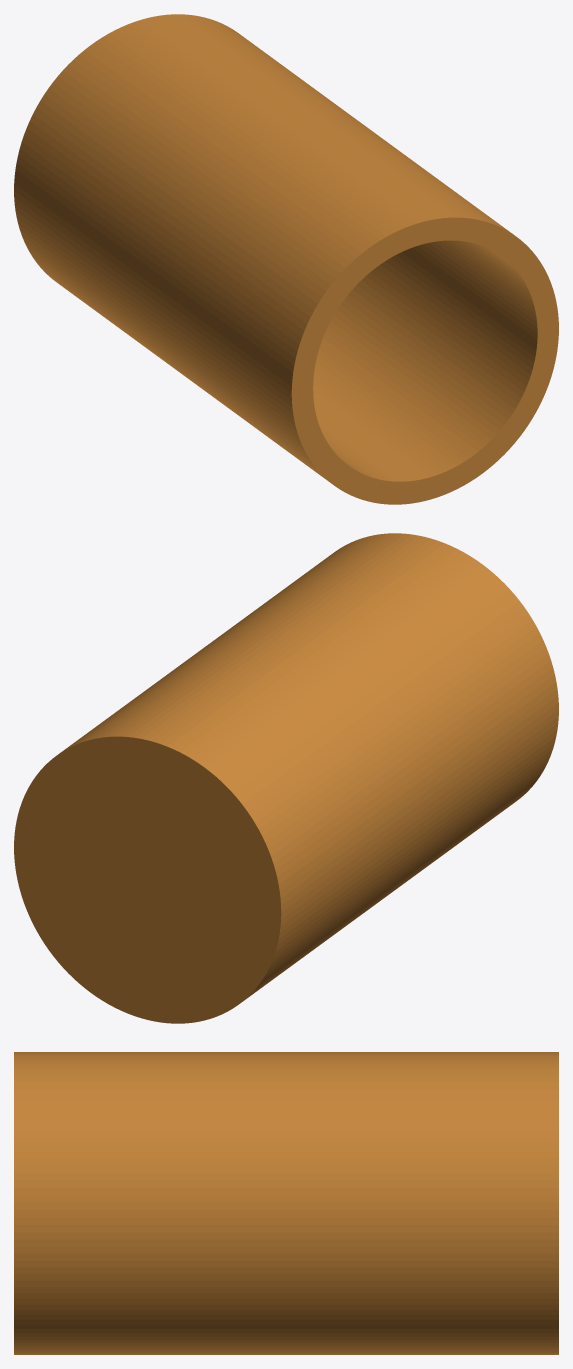
The picture shows the model from 3 angles, top to bottom: view 1: azimuth 30°, elevation 25°; view 2: azimuth 150°, elevation 25°; view 3: azimuth 270°, elevation 25°; orthographic projection.
Parts seen in each view (by area): view 1: visual_00; view 2: visual_00; view 3: visual_00.
Part boxes in pixels (left/top/right/bottom): visual_00: left=14, top=14, right=558, bottom=504; visual_00: left=14, top=533, right=558, bottom=1023; visual_00: left=14, top=1052, right=558, bottom=1354.
Size of the model in its own units: 0.05 by 0.05 by 0.09.
